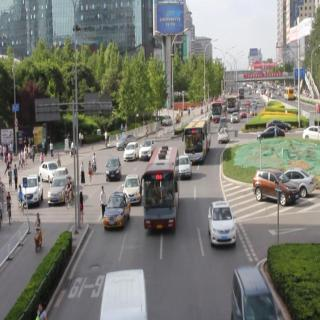BigCar: (141, 143, 181, 231), (180, 115, 212, 163)
Car: (206, 198, 241, 257), (251, 167, 299, 208), (279, 159, 317, 197), (103, 186, 130, 232), (19, 171, 43, 212), (46, 174, 74, 206), (102, 155, 122, 184), (124, 173, 141, 207), (39, 159, 59, 184), (124, 141, 140, 167), (176, 154, 193, 178), (138, 136, 154, 160)
